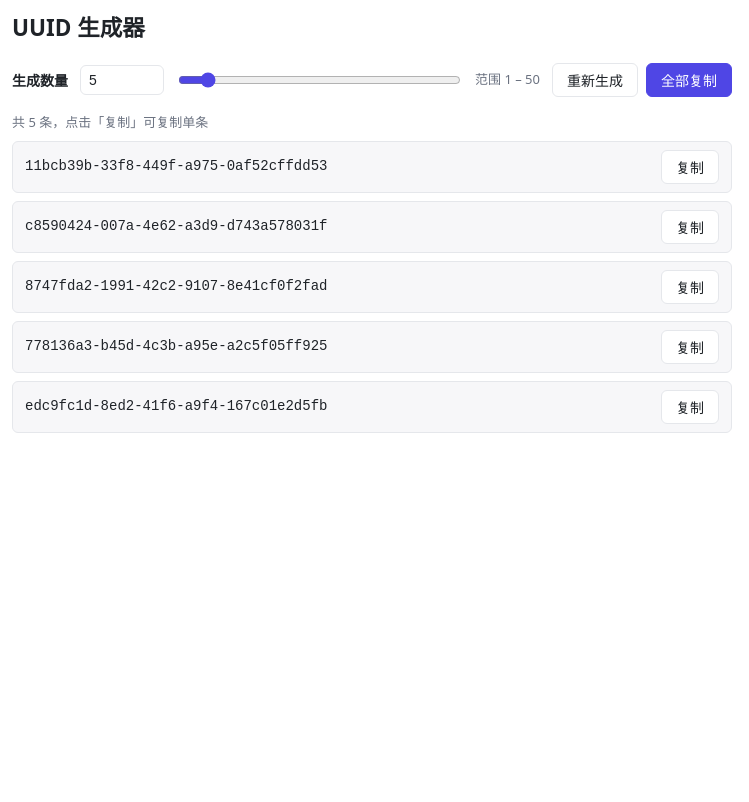
Test: BETE-7 AC-3 数量边界 1 与 50 › AC-3: 滑块调整同步数量输入与结果列表
Set the slider named "生成数量滑块" to "50": x=453, y=80 [178,72,461,88]
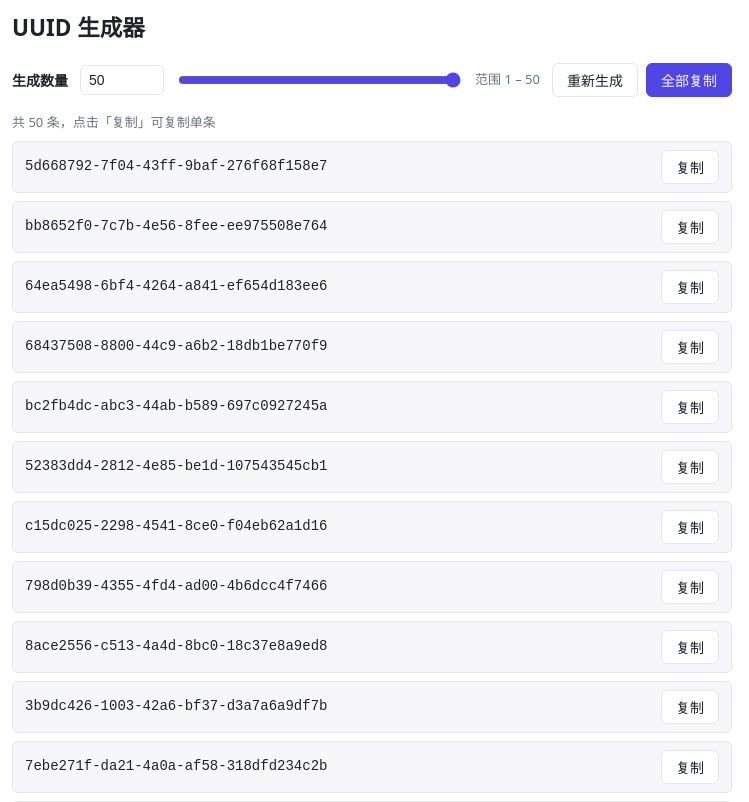
Expected: the number field labelled "生成数量" holds "50", [80,65,164,95]
Expected: the number of list items is 50
Set the slider named "生成数量滑块" to "1": x=186, y=80 [178,72,461,88]
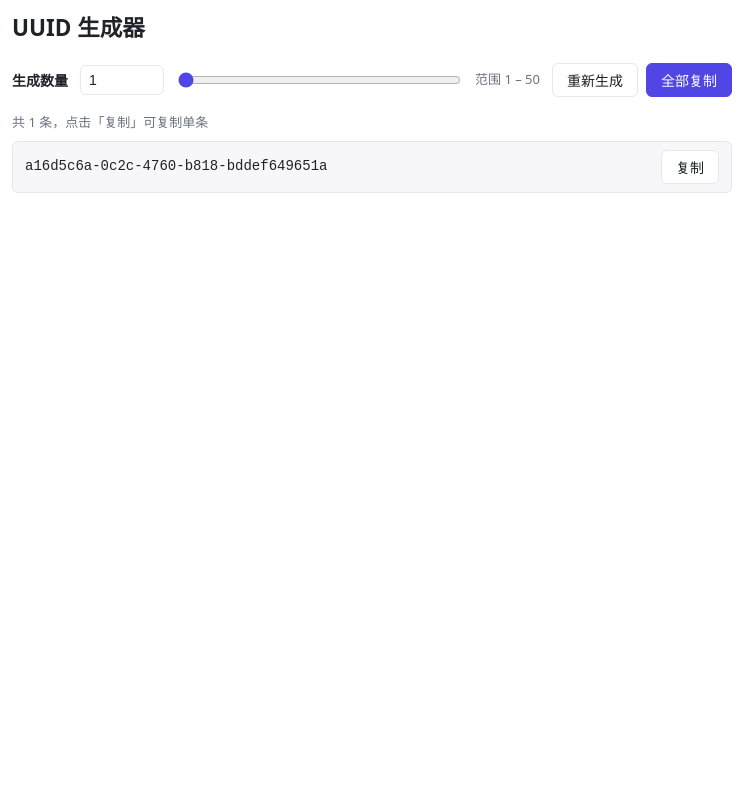
Expected: the number field labelled "生成数量" holds "1", [80,65,164,95]
Expected: the number of list items is 1, [12,141,732,193]
